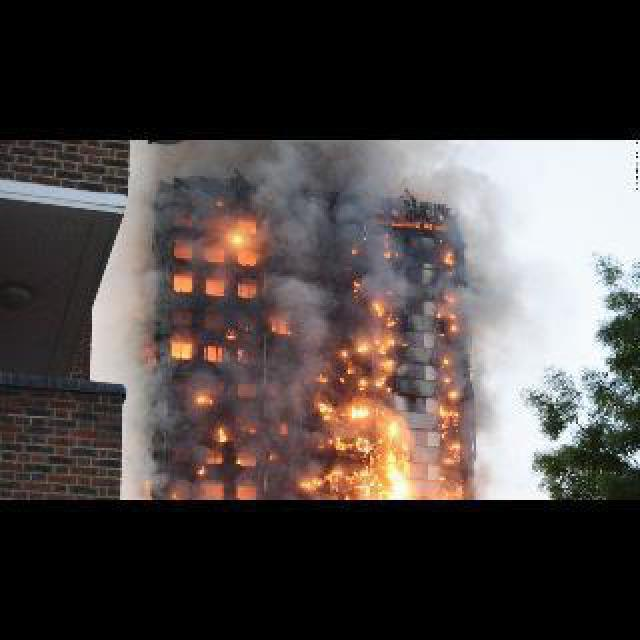smoke: (252, 138, 324, 466), (460, 194, 524, 472), (128, 176, 176, 492), (348, 138, 400, 302)
zfire: (330, 344, 408, 496), (366, 296, 404, 348), (438, 432, 464, 496), (440, 352, 462, 422), (438, 288, 458, 338), (226, 222, 244, 252), (438, 240, 456, 270), (220, 324, 240, 348), (194, 390, 214, 410), (192, 460, 212, 480), (214, 424, 230, 440)
